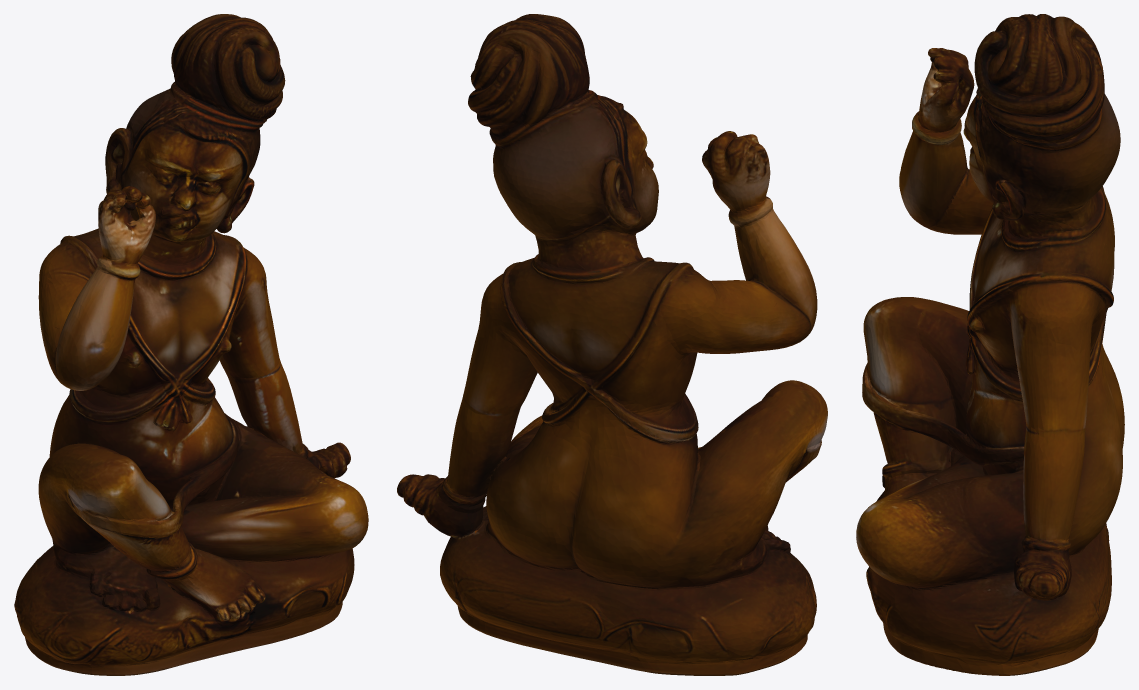
The picture shows the model from 3 angles, left to right: view 1: azimuth 30°, elevation 25°; view 2: azimuth 150°, elevation 25°; view 3: azimuth 270°, elevation 25°; orthographic projection. The views are drawn at different scales.
Parts seen in each view (by area): view 1: textured_mesh; view 2: textured_mesh; view 3: textured_mesh.
Part boxes in pixels (x1,y1,x2,y2): textured_mesh: (14, 14, 368, 675); textured_mesh: (397, 14, 827, 675); textured_mesh: (856, 14, 1124, 675).
Size of the model in its own units: 1.3 by 1.99 by 0.7887.
Materials: 1 (1 with a texture image).
